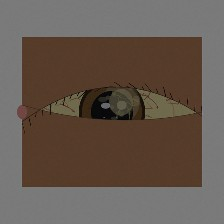corneal_ulcer: (99, 85, 143, 119)
